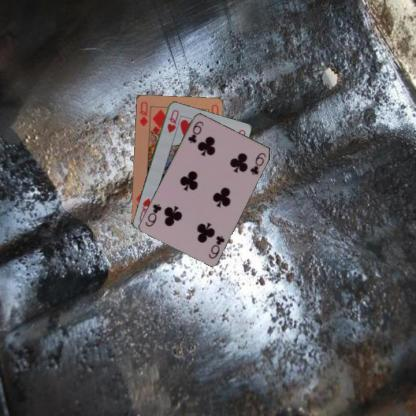6c: (206, 232, 226, 260), (185, 117, 204, 144)
Qd: (136, 99, 148, 127)
Qh: (164, 107, 180, 134)
